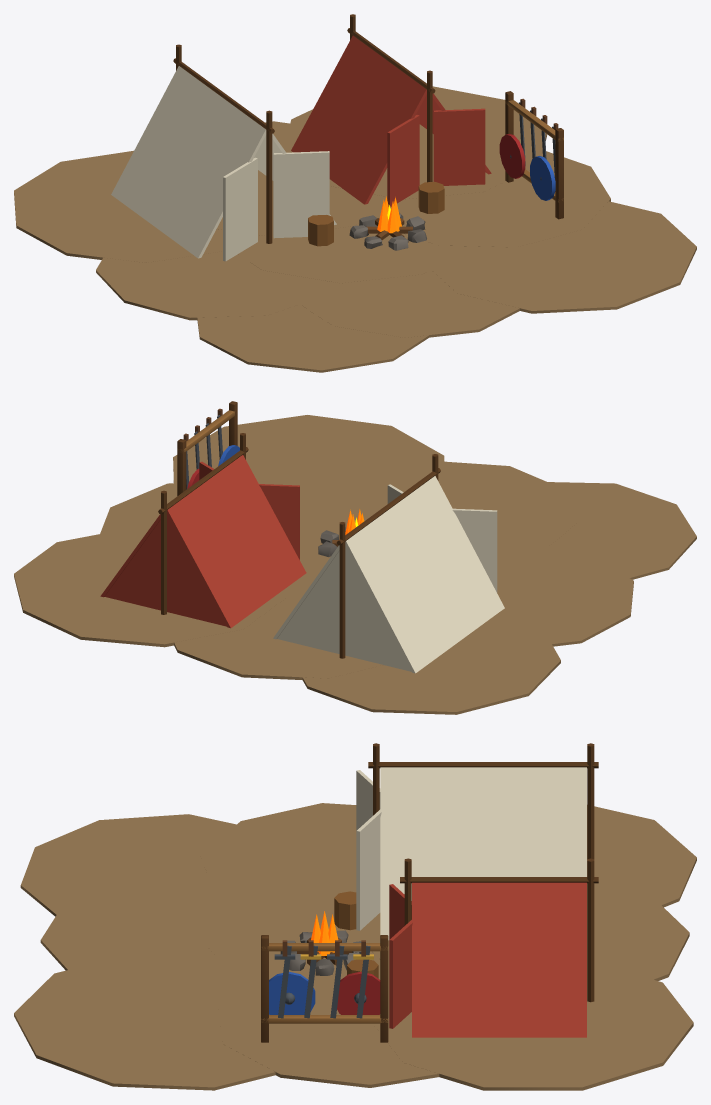
File: koszary_poz02.glb
The picture shows the model from 3 angles, top to bottom: view 1: azimuth 30°, elevation 25°; view 2: azimuth 150°, elevation 25°; view 3: azimuth 270°, elevation 25°; orthographic projection. The views are drawn at different scales.
Parts seen in each view (by area): view 1: koszary_poz02; view 2: koszary_poz02; view 3: koszary_poz02.
Boxes of the visible parts, bbox=[...] form: koszary_poz02: bbox=[14, 14, 696, 372]; koszary_poz02: bbox=[14, 401, 696, 714]; koszary_poz02: bbox=[14, 743, 696, 1090].
Size of the model in its own units: 8.55 by 2.3 by 8.6.
